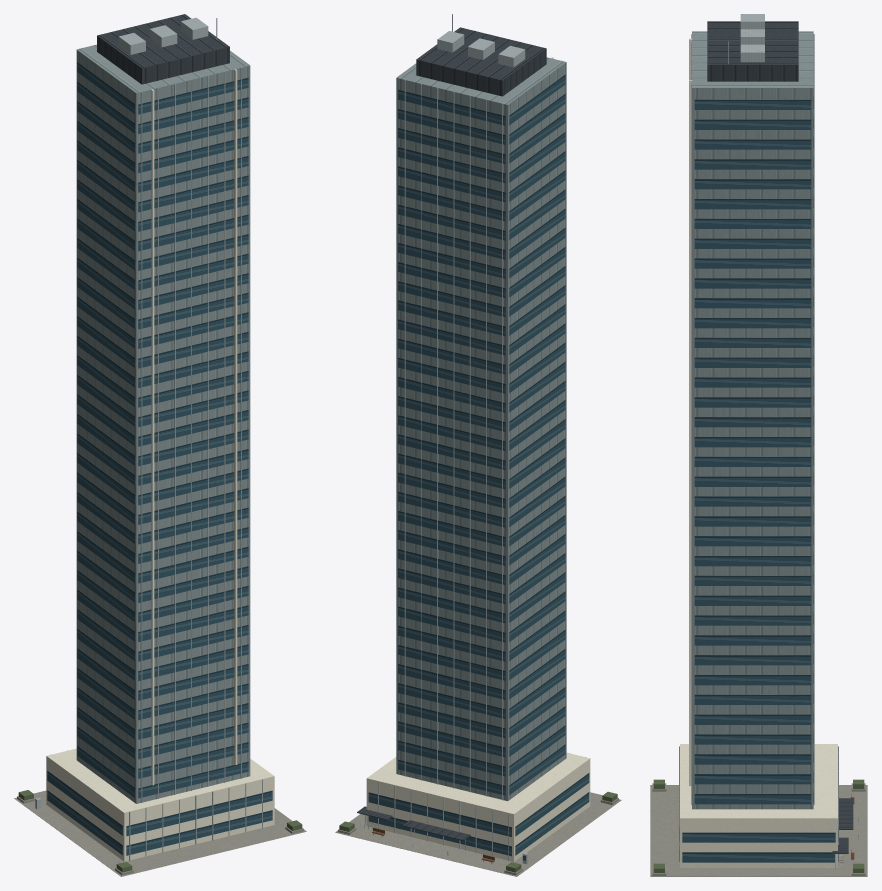
Rendered from office_tower_002.obj.
The picture shows the model from 3 angles, left to right: view 1: azimuth 30°, elevation 25°; view 2: azimuth 150°, elevation 25°; view 3: azimuth 270°, elevation 25°; orthographic projection. The views are drawn at different scales.
Visible parts, largest first — view 1: office_tower_002; view 2: office_tower_002; view 3: office_tower_002.
Boxes of the visible parts, x1,y1,x2,y2 form: office_tower_002: [14, 14, 306, 876]; office_tower_002: [335, 14, 621, 876]; office_tower_002: [650, 14, 867, 876].
Size of the model in its own units: 35.8 by 147 by 35.8.
1 material, 1 textured.
